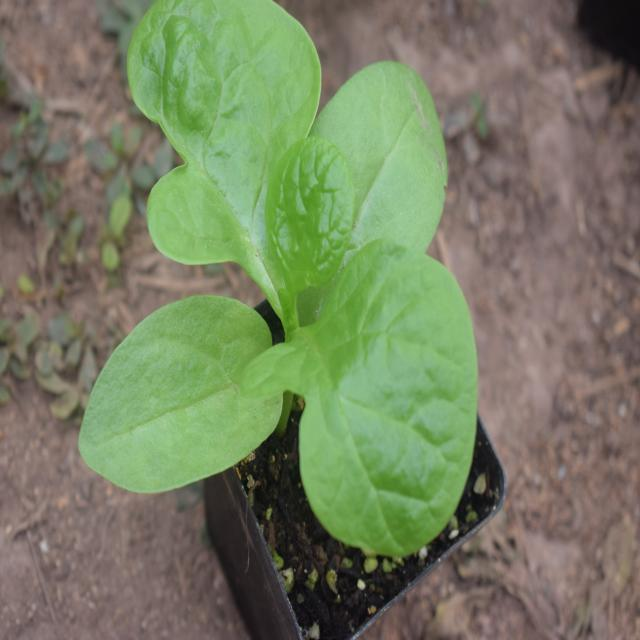Ceylon spinach: (103, 10, 491, 540)
